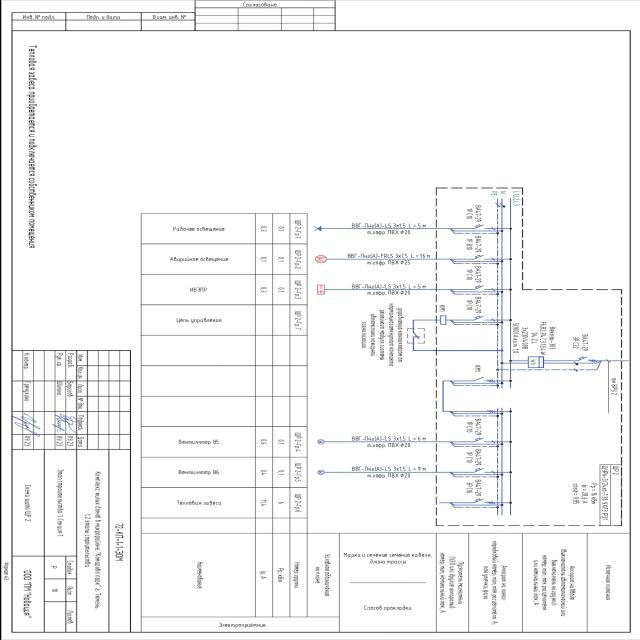-: (510, 321, 556, 356), (598, 466, 608, 521), (572, 334, 588, 352), (465, 478, 481, 496), (466, 418, 482, 436), (464, 266, 480, 284), (465, 296, 481, 314), (464, 449, 480, 467), (466, 236, 482, 253), (466, 205, 482, 222)
KM: (472, 376, 486, 384), (438, 315, 446, 325)
QF: (471, 285, 485, 291), (472, 224, 486, 230), (472, 254, 486, 260), (470, 316, 484, 322), (471, 437, 485, 443), (472, 468, 486, 474), (472, 499, 486, 505), (576, 356, 588, 362)
WH: (526, 356, 544, 368)
